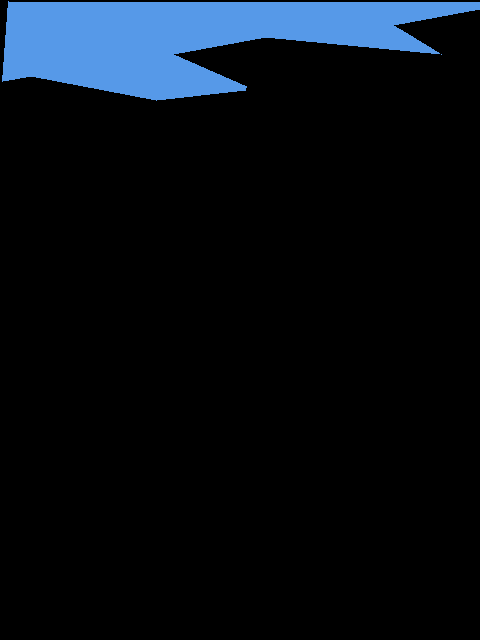Airplane: (2, 1, 480, 101)
